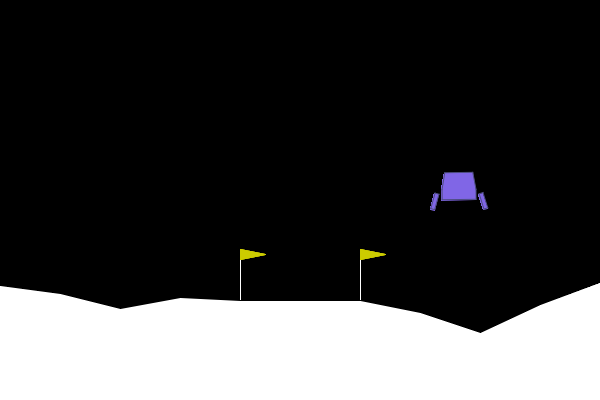lander: (428, 170, 489, 211)
